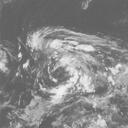cyclone: (29, 29, 95, 105)
